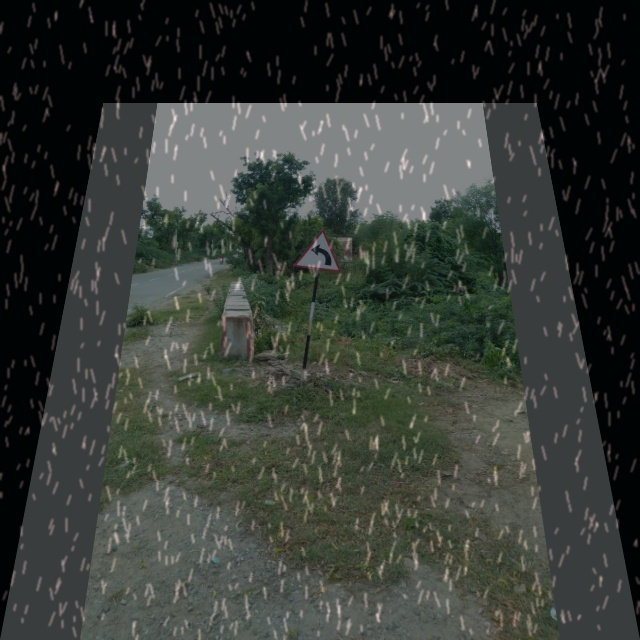Left_Hand_Curve: (291, 228, 345, 277)
